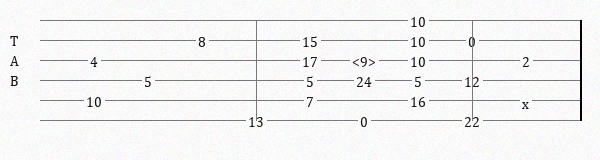0: (360, 113, 372, 127), (468, 33, 480, 47)
10: (86, 93, 106, 107), (410, 53, 430, 67), (410, 13, 430, 27), (410, 33, 430, 47)
12: (464, 73, 484, 87)
13: (248, 113, 268, 127)
15: (302, 33, 322, 48)
16: (410, 93, 430, 107)
17: (302, 53, 322, 67)
2: (522, 53, 534, 67)
22: (464, 113, 484, 127)
24: (356, 73, 376, 87)
4: (90, 53, 102, 67)
5: (144, 73, 156, 88), (306, 73, 318, 88), (414, 73, 426, 88)
7: (306, 93, 318, 107)
8: (198, 33, 210, 47)
harmonic: (352, 53, 380, 67)
x: (522, 95, 533, 106)
